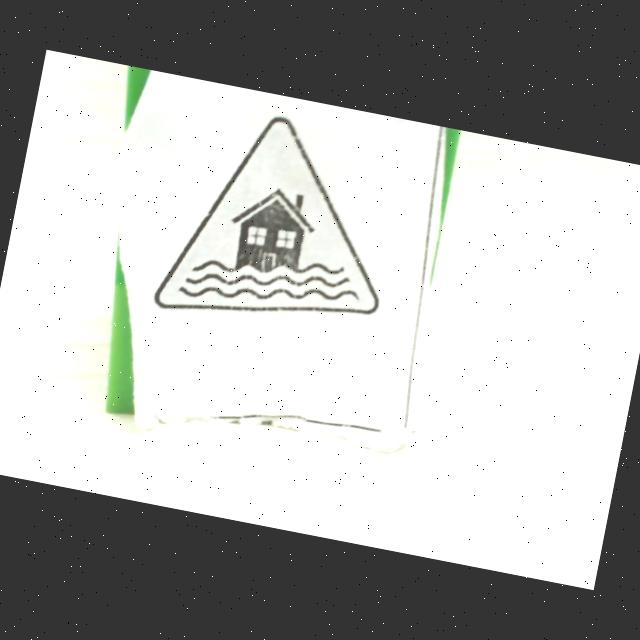Tsunami: (155, 117, 379, 314)
